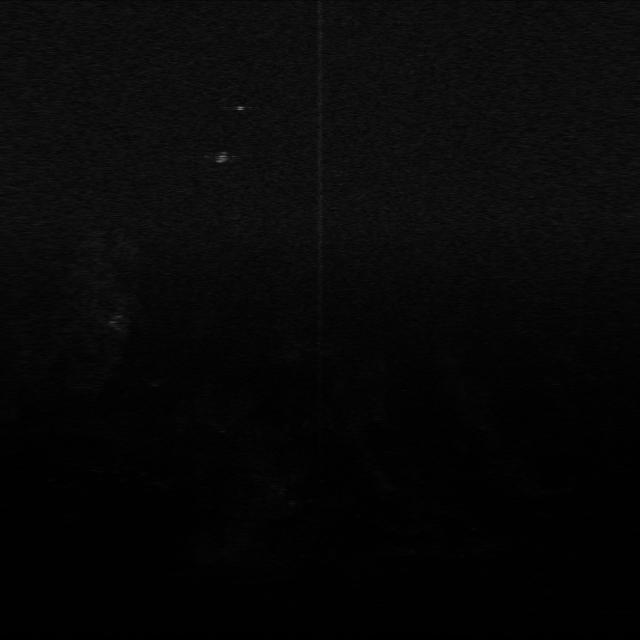rov: (211, 146, 237, 168)
